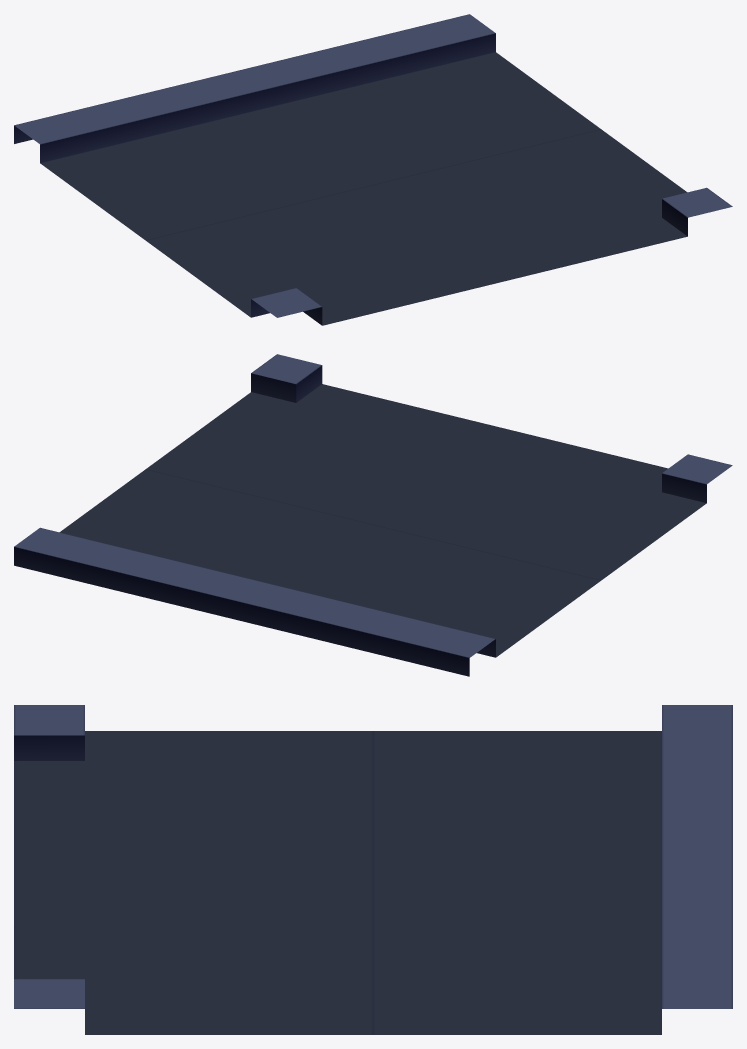
File: road03.FBX
The picture shows the model from 3 angles, top to bottom: view 1: azimuth 30°, elevation 25°; view 2: azimuth 150°, elevation 25°; view 3: azimuth 270°, elevation 25°; orthographic projection. The views are drawn at different scales.
Visible parts, largest first — view 1: Road03; view 2: Road03; view 3: Road03.
Part boxes in pixels (<box>): Road03: <box>14,14,732,325</box>; Road03: <box>14,354,732,676</box>; Road03: <box>14,705,732,1034</box>.
Bounding box in the file's own units: 1.01 × 1.01 × 0.04.
Materials: 1 (1 with a texture image).
